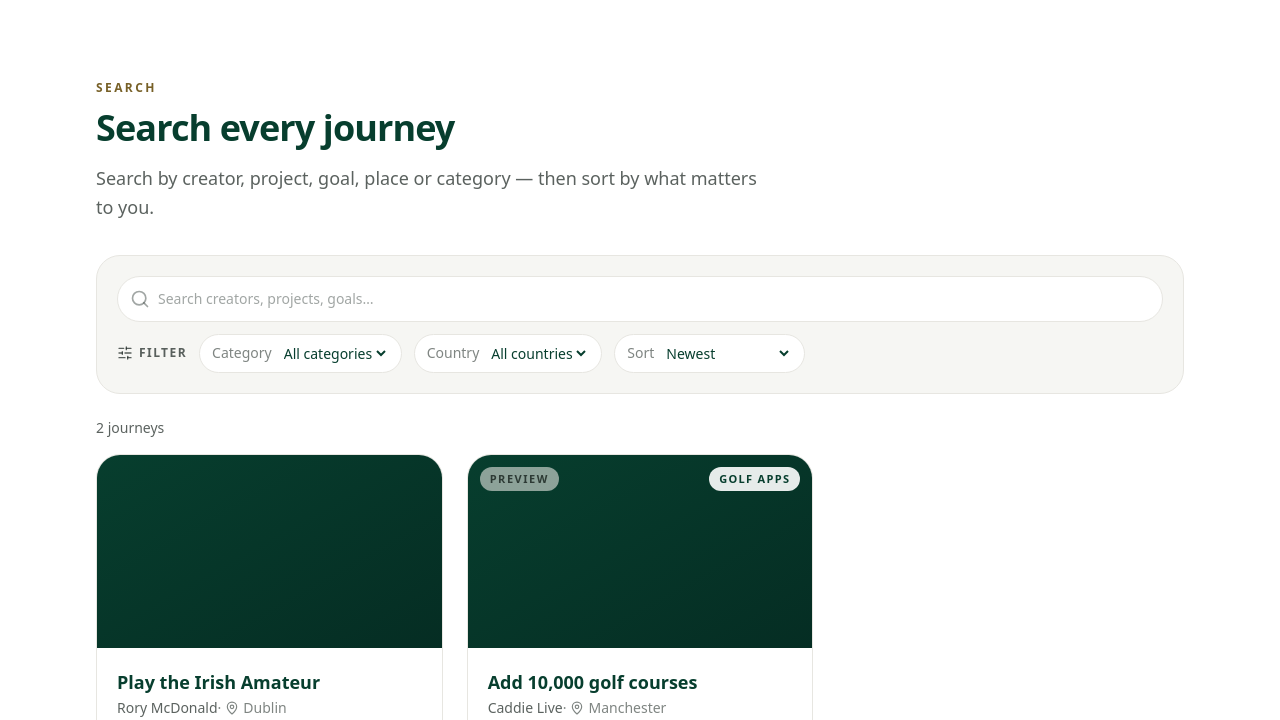
DiscoverBrowser › offers translated country options and filters on them
Select "Ireland" in the dropdown labelled "Country" at (538, 353), box [487,342,589,364]
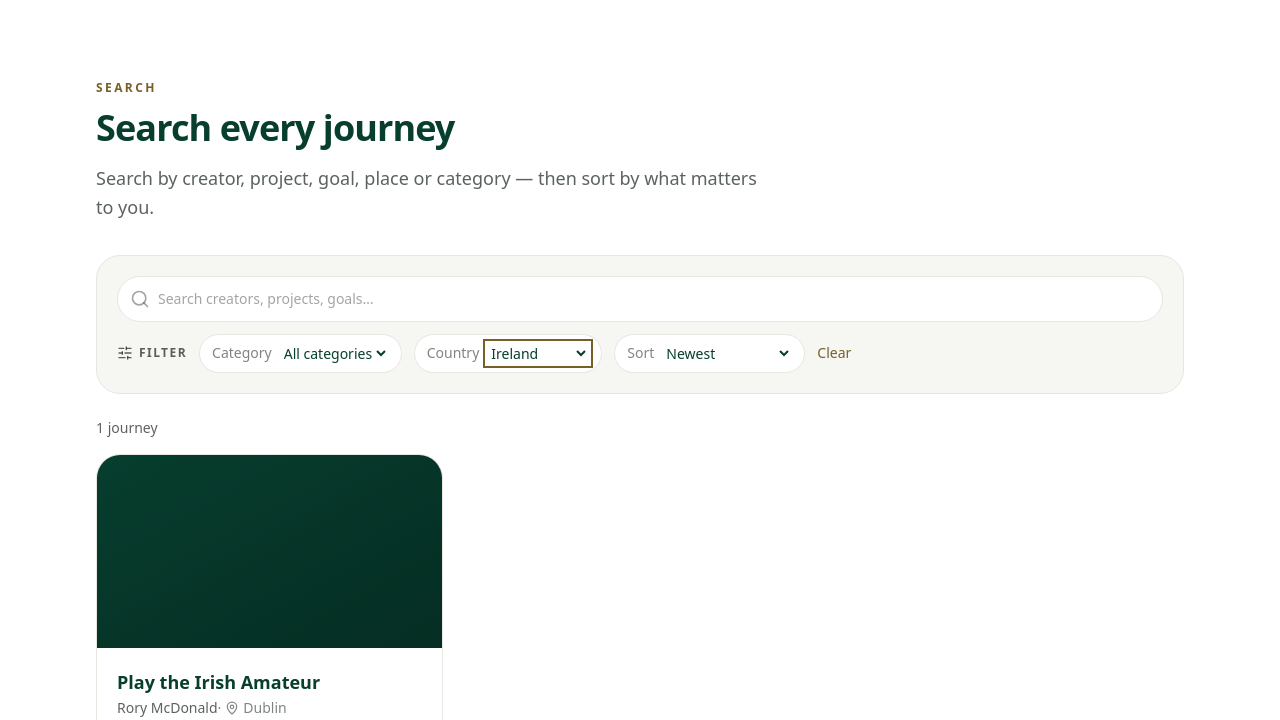
Expected: the heading "Play the Irish Amateur" is shown, [117,670,320,694]
Result: the text "1 journey" is shown at [96,418,158,436]
